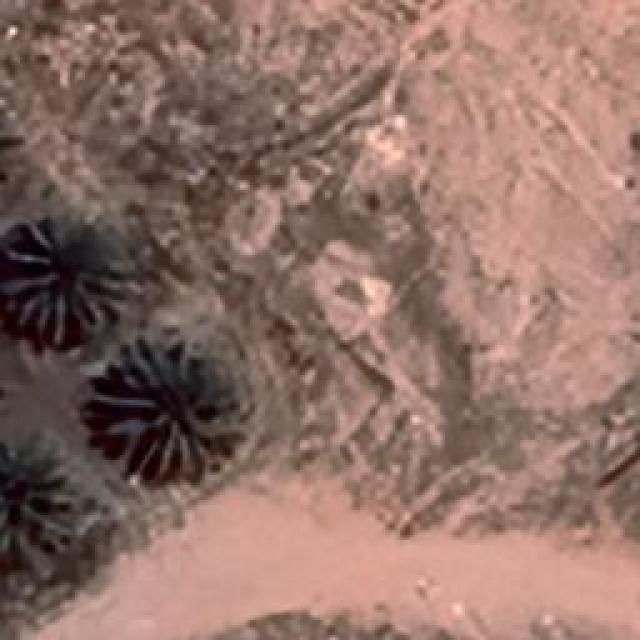PalmTree: (14, 128, 70, 499), (92, 338, 226, 478), (0, 220, 125, 340)
